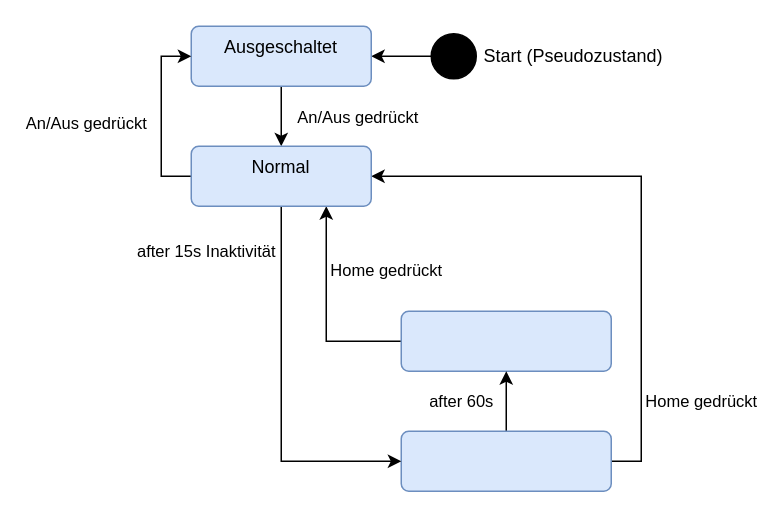
Image size: 783x518. Some labels were removed from this diagram. The centre of each missing label's shape, as x and y in pixels:
"Energiesparen" goes at [505,460].
"Standby" goes at [505,340].
